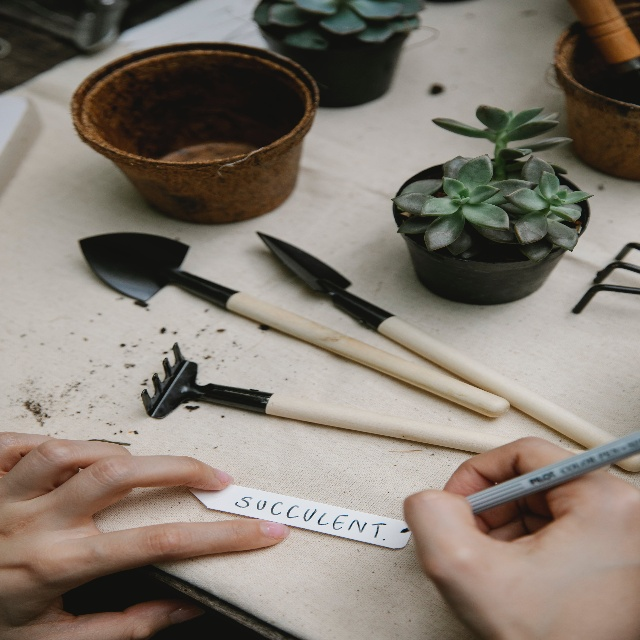Sin_guantes: (0, 432, 293, 640), (407, 432, 640, 636)
